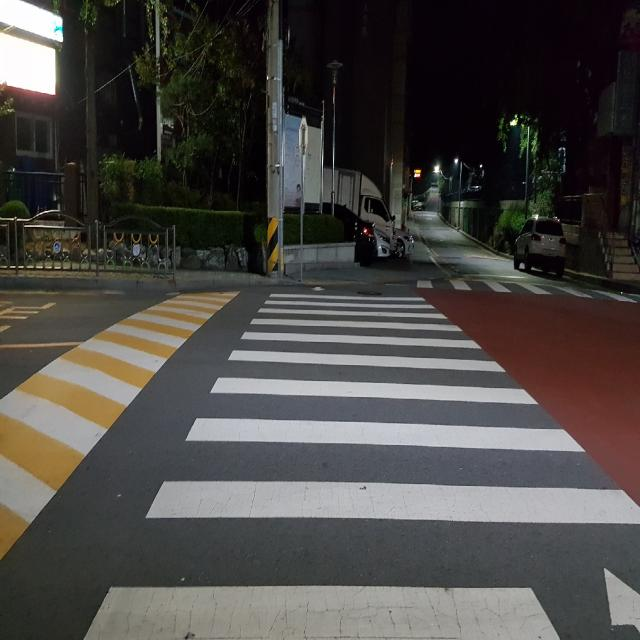횡단보도: (82, 286, 640, 640)
